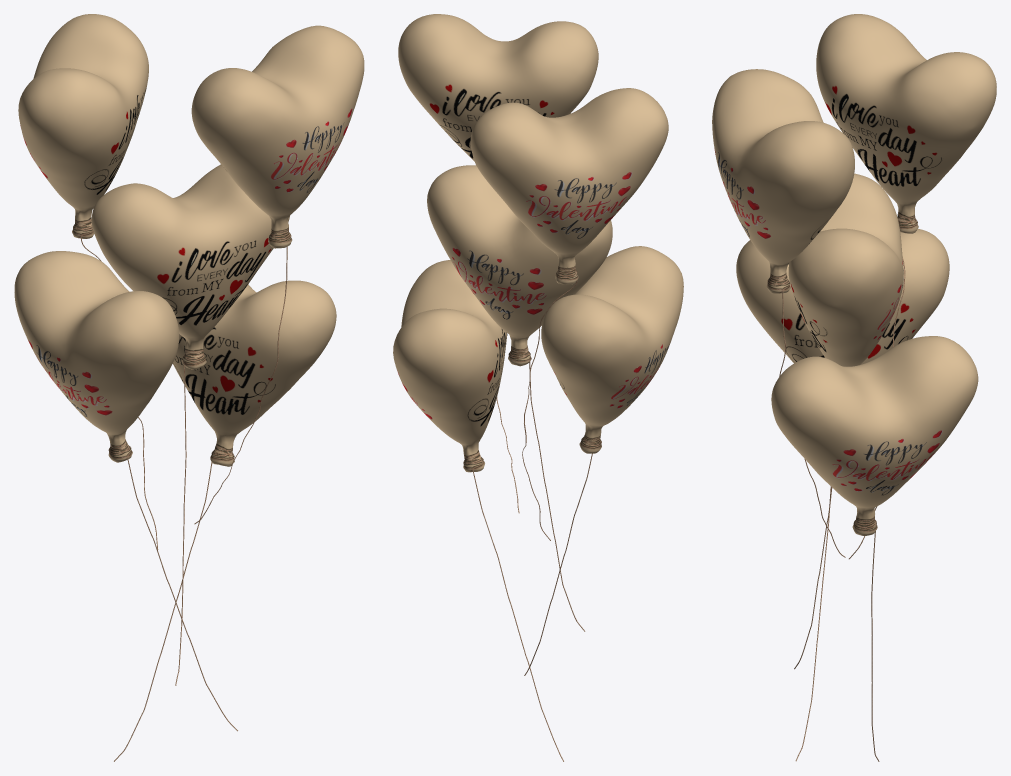
File: Air_baloons.fbx
3 renders of one model, left to right at view 1: azimuth 30°, elevation 25°; view 2: azimuth 150°, elevation 25°; view 3: azimuth 270°, elevation 25°, orthographic. The views are drawn at different scales.
Parts seen in each view (by area): view 1: Air_baloon_var3; view 2: Air_baloon_var3; view 3: Air_baloon_var3.
Boxes of the visible parts, bbox=[...] form: Air_baloon_var3: bbox=[14, 14, 364, 761]; Air_baloon_var3: bbox=[393, 14, 683, 761]; Air_baloon_var3: bbox=[712, 14, 996, 761].
Bounding box in the file's own units: 205 × 463 × 166.
